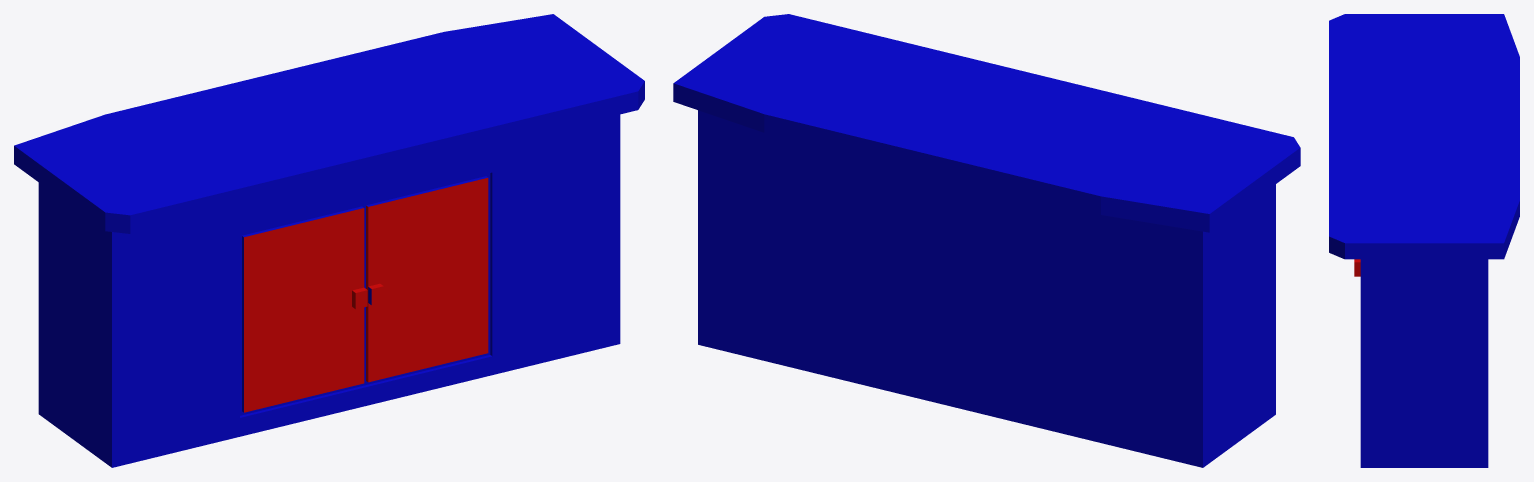
Rendered from Countertop.fbx.
3 renders of one model, left to right at view 1: azimuth 30°, elevation 25°; view 2: azimuth 150°, elevation 25°; view 3: azimuth 270°, elevation 25°, orthographic. The views are drawn at different scales.
Visible parts, largest first — view 1: Countertop; view 2: Countertop; view 3: Countertop.
Boxes of the visible parts, bbox=[...] form: Countertop: bbox=[14, 14, 644, 467]; Countertop: bbox=[673, 14, 1300, 467]; Countertop: bbox=[1329, 14, 1519, 467].
Size of the model in its own units: 2.12 by 1 by 0.7467.
